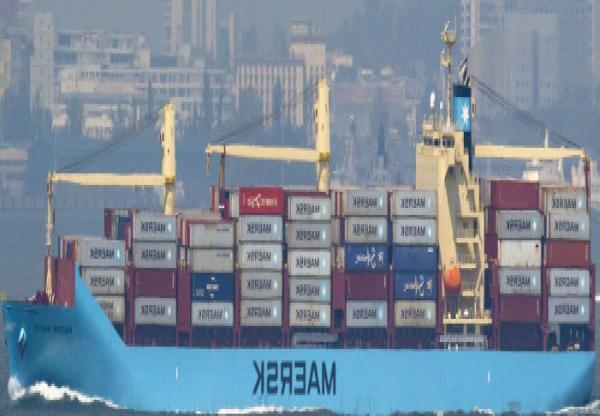Container Ship: (2, 15, 597, 414)
